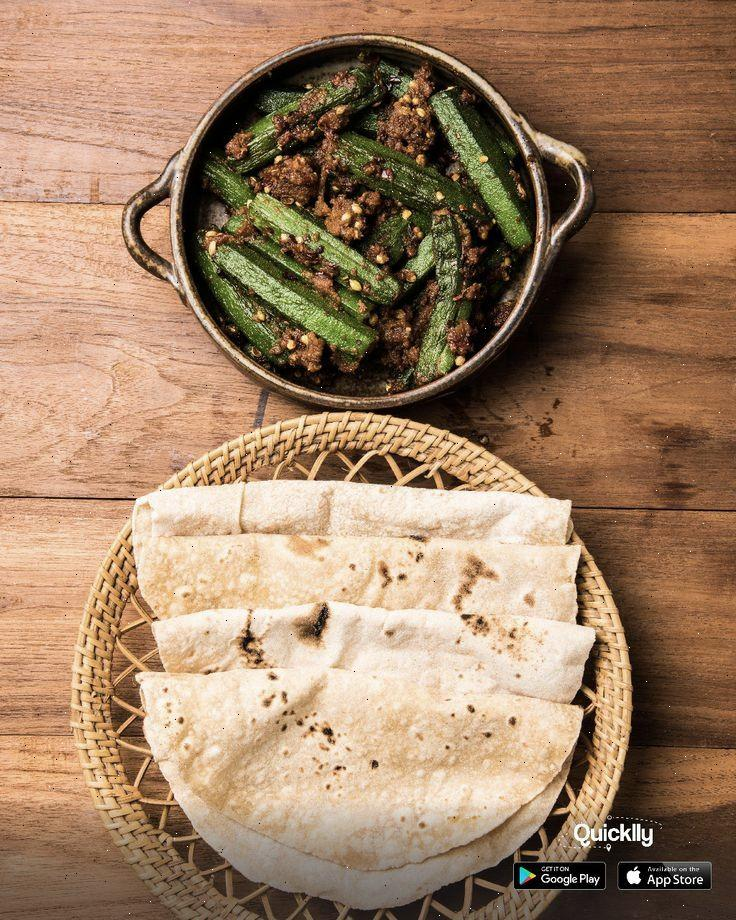bhindi: (209, 125, 510, 346)
